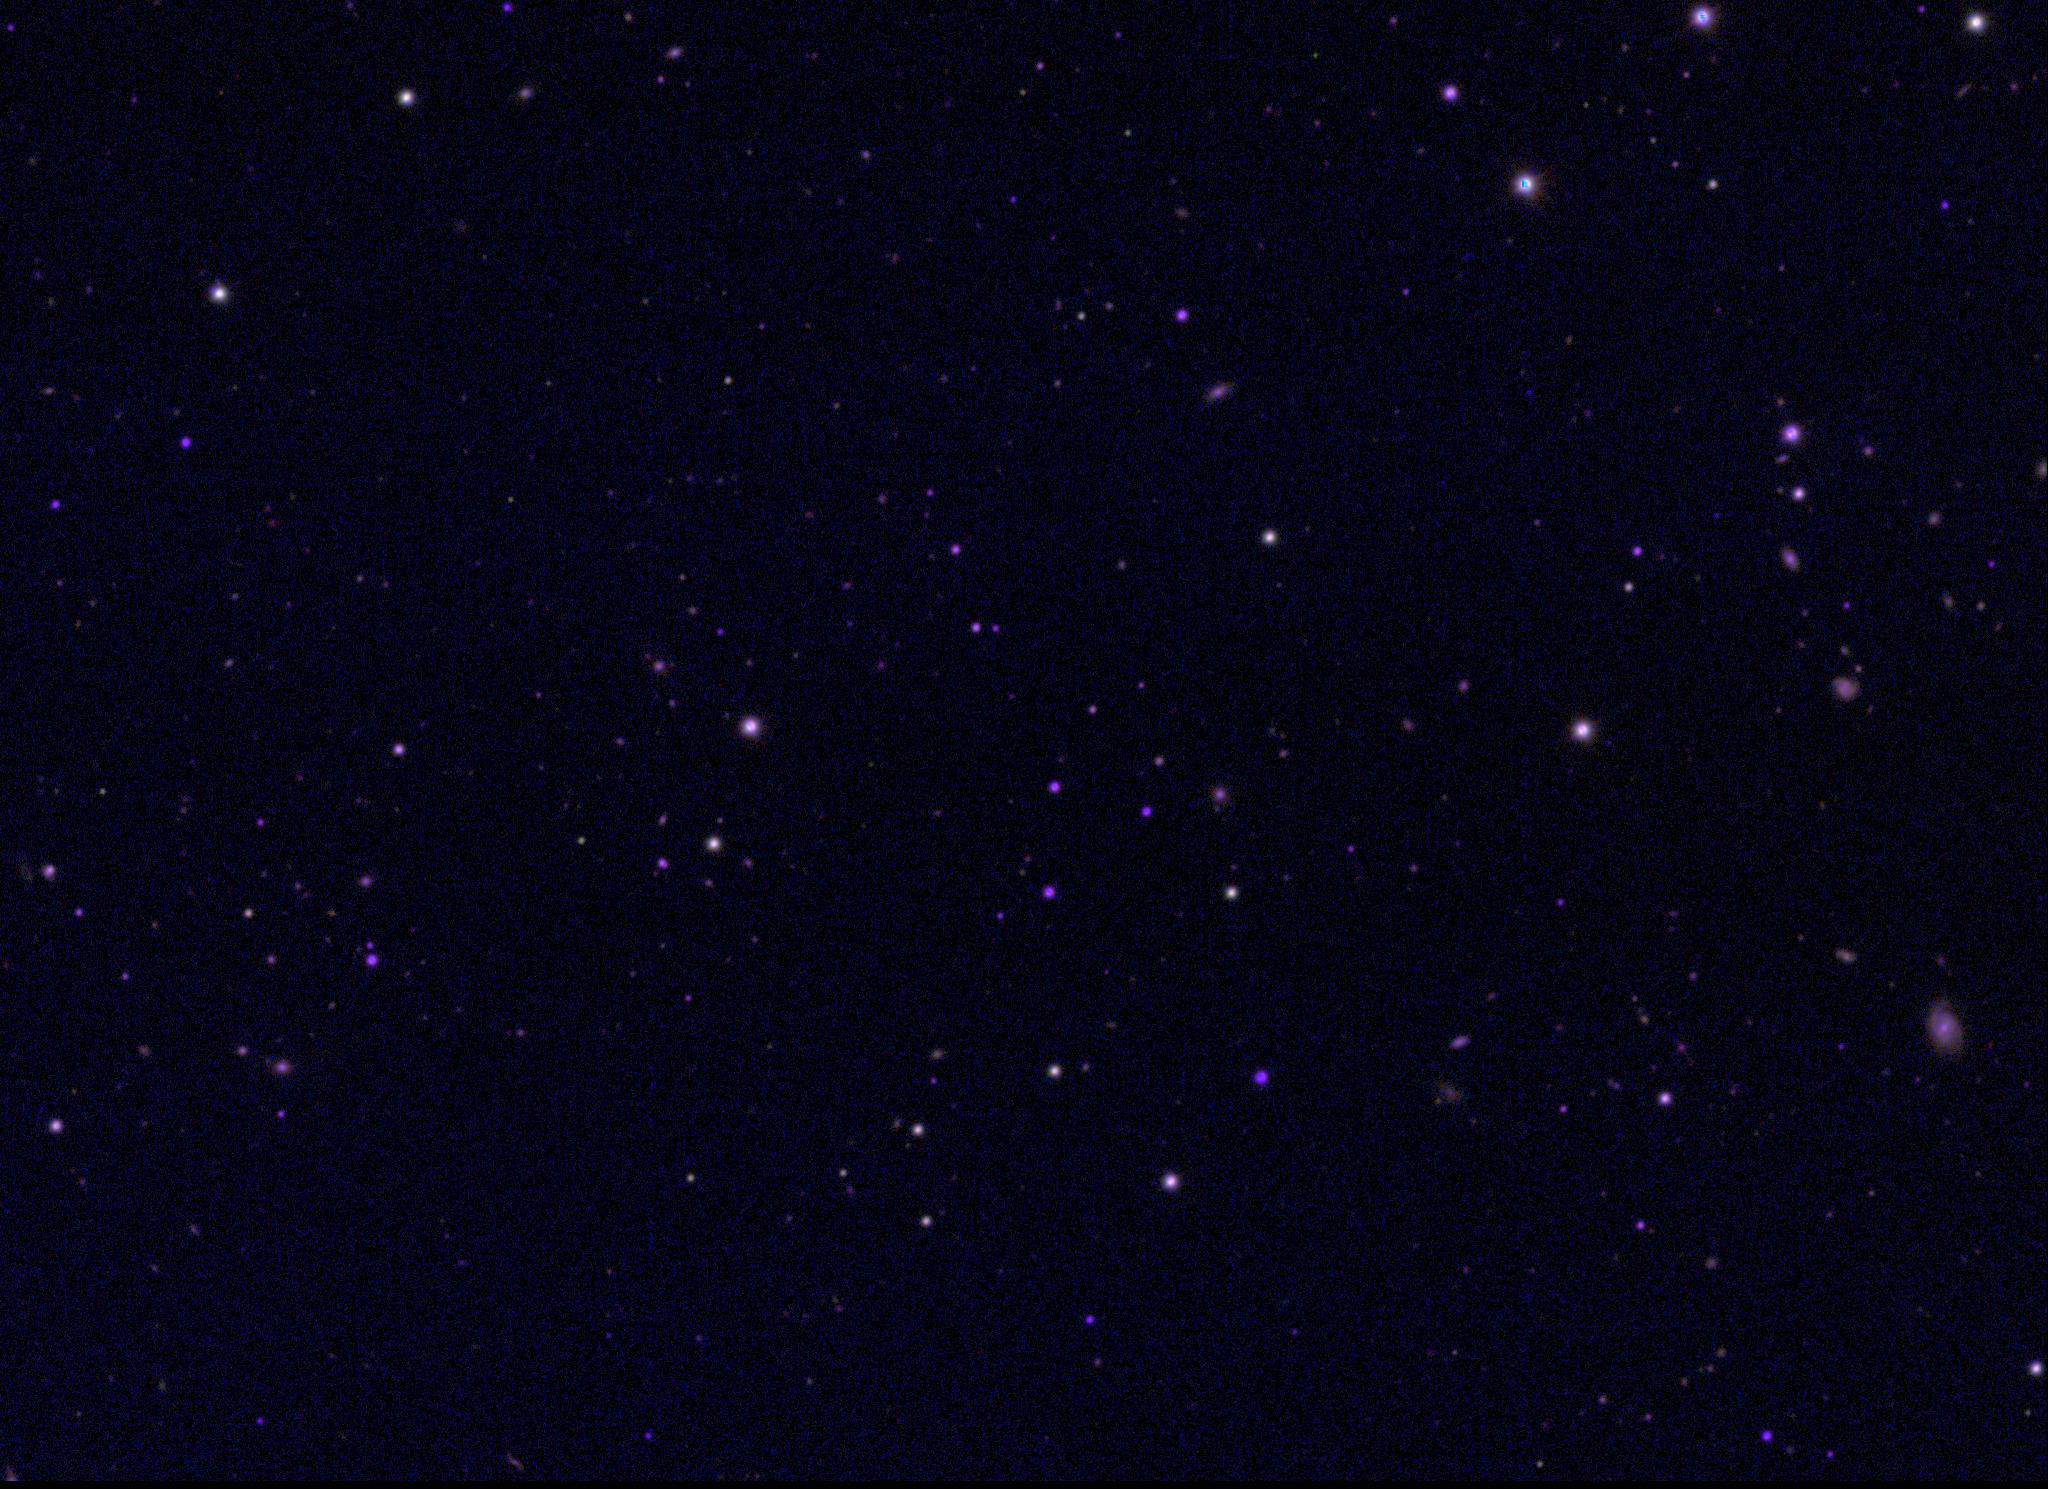L: (1523, 385, 1538, 399)
